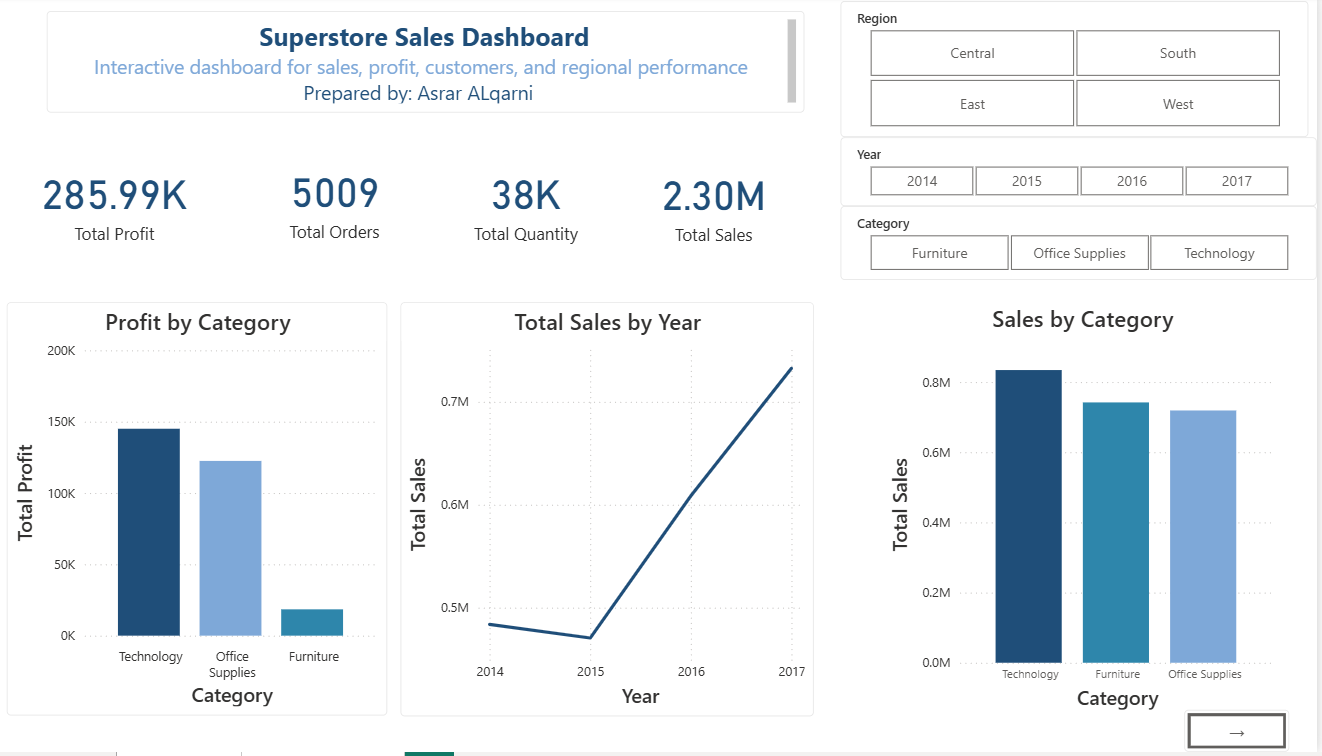

This screenshot's page, from the dashboard's own definition file:
{"tool":"powerbi","page":{"name":"Dashboard","canvas":[1280,720],"ordinal":0},"visuals":[{"type":"card","fields":{"Values":["Superstore_Comma.Total Orders"]},"box":[257.3,134.7,174.7,120],"z":0},{"type":"card","fields":{"Values":["Superstore_Comma.Total Profit"]},"box":[26.7,122.7,217.3,148],"z":1000},{"type":"card","fields":{"Values":["Superstore_Comma.Total Quantity"]},"box":[432,132,189.3,129.3],"z":2000},{"type":"card","fields":{"Values":["Superstore_Comma.Total Sales"]},"box":[604,140,204,113.3],"z":3000},{"type":"clusteredColumnChart","title":"Sales by Category","fields":{"Y":["Superstore_Comma.Total Sales"],"Category":["Superstore_Comma.Category"]},"box":[869.3,292,376,393.3],"z":5000},{"type":"clusteredColumnChart","title":"Profit by Category","fields":{"Category":["Superstore_Comma.Category"],"Y":["Superstore_Comma.Total Profit"]},"box":[32,292,362.7,393.3],"z":6000},{"type":"slicer","fields":{"Values":["Superstore_Comma.Region"]},"box":[826.7,5.3,445.3,129.3],"z":8000},{"type":"slicer","fields":{"Values":["Superstore_Comma.Category"]},"box":[826.7,200,453.3,70.7],"z":9000},{"type":"slicer","fields":{"Values":["Superstore_Comma.Order Date.Variation.Date Hierarchy.Year"]},"box":[826.7,134.7,453.3,65.3],"z":10000},{"type":"textbox","box":[70.2,14.3,721.4,96.4],"z":11000},{"type":"lineChart","fields":{"Y":["Superstore_Comma.Total Sales"],"Category":["Superstore_Comma.Year"]},"box":[406.7,292,393.3,394.7],"z":12000},{"type":"actionButton","box":[1153.6,679.8,100,40],"z":12001}]}

Visuals, with their boxes in screenshot pixels (x1, y1, x2, y2), scaled from the page's 1280x720 canvas onto the 1322x756 screenshot:
card - Superstore_Comma.Total Orders: <box>266,141,446,267</box>
card - Superstore_Comma.Total Profit: <box>28,129,252,284</box>
card - Superstore_Comma.Total Quantity: <box>446,139,642,274</box>
card - Superstore_Comma.Total Sales: <box>624,147,835,266</box>
"Sales by Category" clusteredColumnChart: <box>898,307,1286,720</box>
"Profit by Category" clusteredColumnChart: <box>33,307,408,720</box>
slicer - Superstore_Comma.Region: <box>854,6,1314,141</box>
slicer - Superstore_Comma.Category: <box>854,210,1321,284</box>
slicer - Superstore_Comma.Order Date.Variation.Date Hierarchy.Year: <box>854,141,1321,210</box>
textbox: <box>73,15,818,116</box>
lineChart - Superstore_Comma.Total Sales x Superstore_Comma.Year: <box>420,307,826,721</box>
actionButton: <box>1191,714,1295,755</box>
